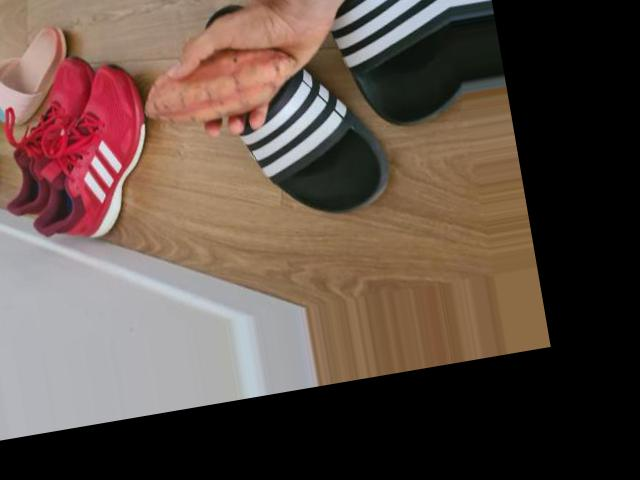sweet_potato: (137, 42, 304, 132)
